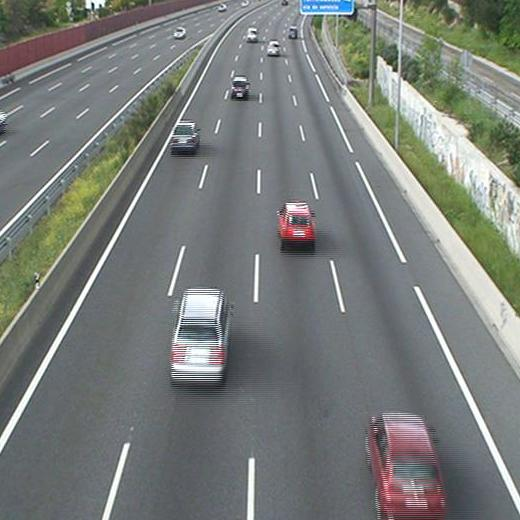car: (366, 417, 446, 519), (171, 289, 228, 381), (278, 204, 314, 242), (171, 122, 198, 149), (231, 77, 248, 98), (266, 40, 281, 56), (246, 29, 260, 41), (287, 26, 297, 39)
